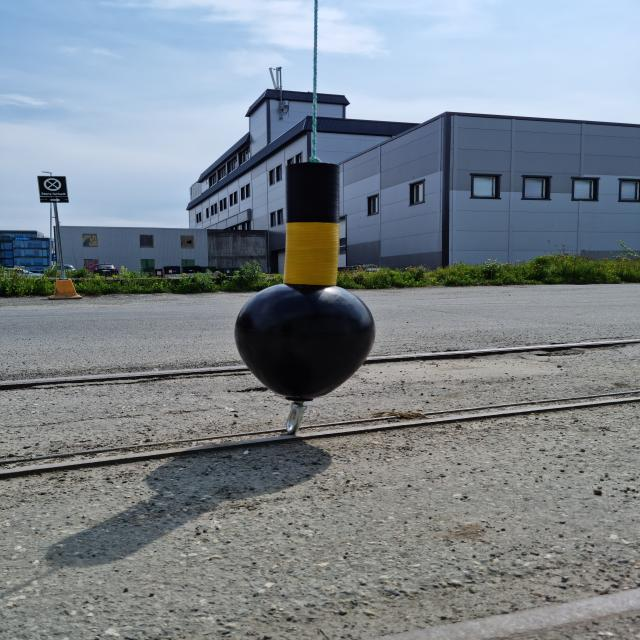east: (235, 162, 376, 402)
